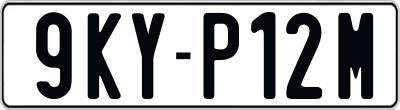1: (248, 12, 272, 99)
2: (285, 12, 323, 102)
9: (36, 10, 75, 98)
K: (86, 10, 124, 102)
M: (338, 13, 374, 99)
P: (200, 13, 238, 103)
Y: (132, 12, 165, 104)
